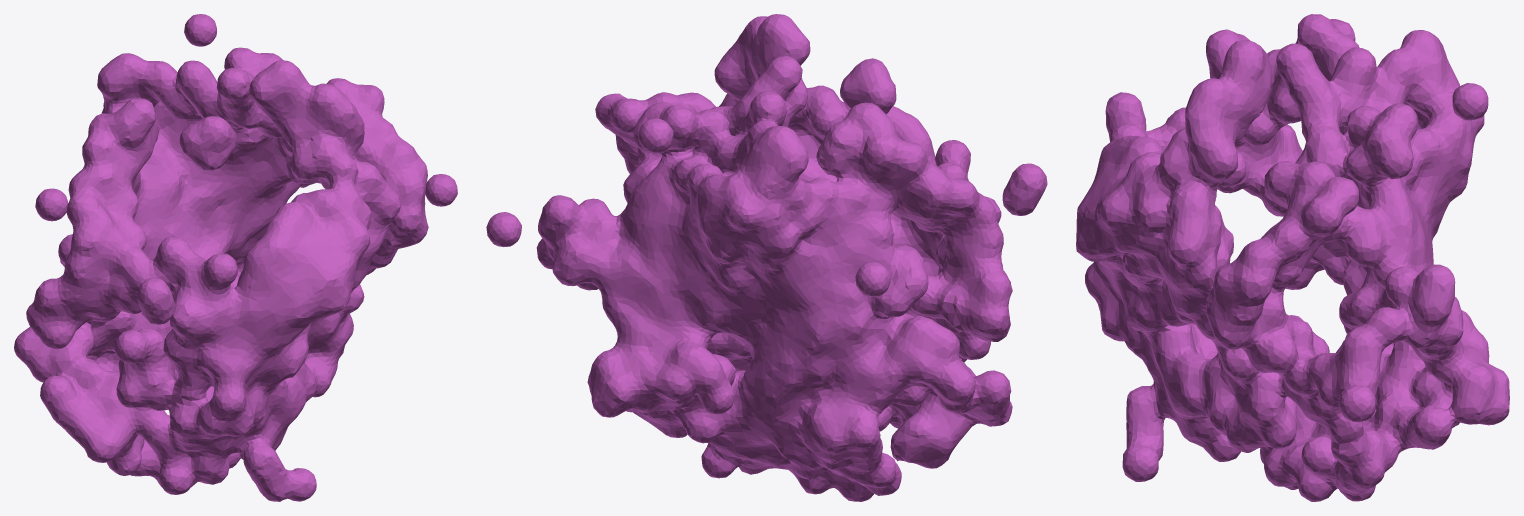
The model's file is purple.obj.
3 views of the same model, side by side, from view 1: azimuth 30°, elevation 25°; view 2: azimuth 150°, elevation 25°; view 3: azimuth 270°, elevation 25° (orthographic). The views are drawn at different scales.
Parts seen in each view (by area): view 1: newsi.stl.002; view 2: newsi.stl.002; view 3: newsi.stl.002.
Boxes of the visible parts, bbox=[...] form: newsi.stl.002: bbox=[14, 14, 457, 501]; newsi.stl.002: bbox=[486, 14, 1047, 501]; newsi.stl.002: bbox=[1076, 14, 1509, 501].
Size of the model in its own units: 80.38 by 70.95 by 58.13.
